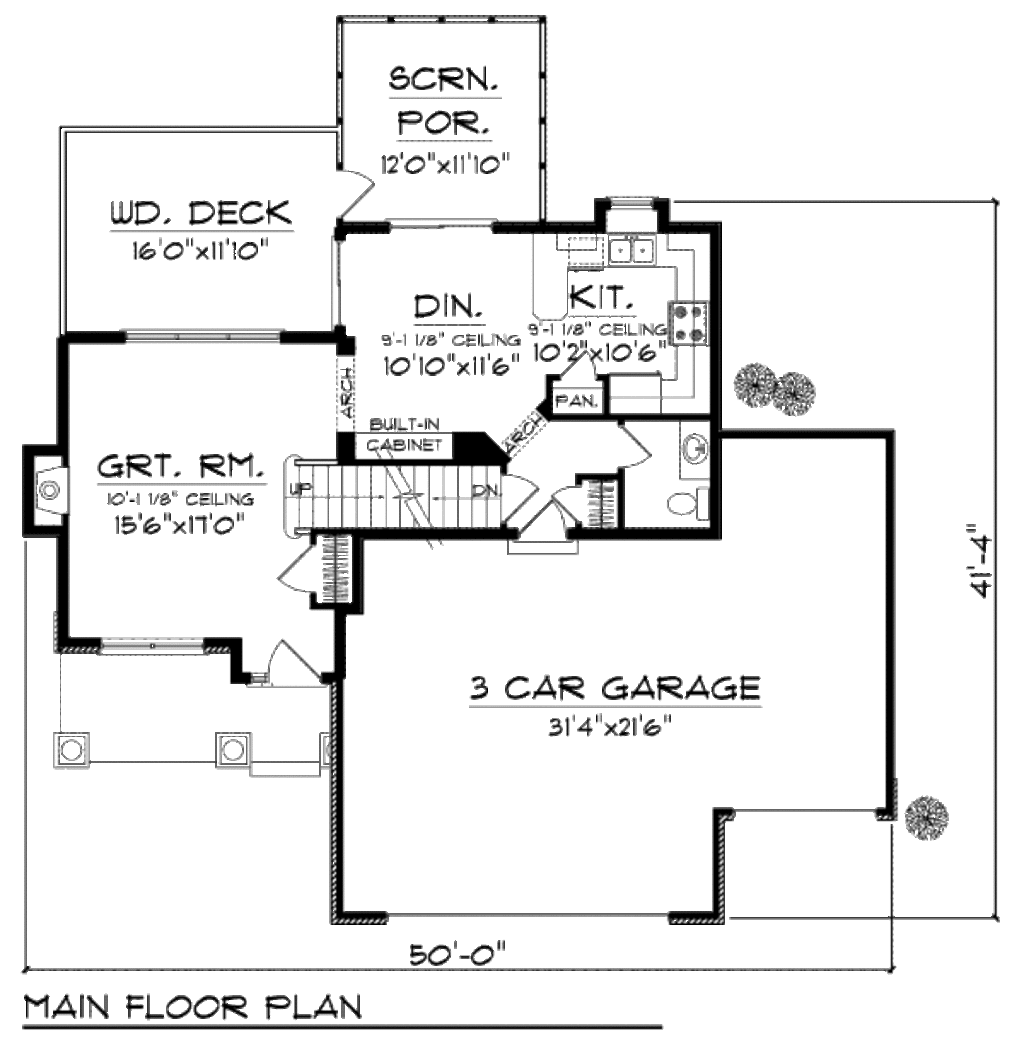door: (498, 505, 579, 554), (324, 160, 384, 223), (261, 641, 332, 694), (279, 534, 326, 601), (605, 415, 659, 470), (553, 473, 597, 528), (500, 470, 539, 525)
large_sink: (661, 473, 713, 525)
small_sink: (680, 418, 714, 478)
stairs: (276, 451, 506, 530)
twin_sink: (605, 230, 658, 270)
window: (105, 326, 287, 351), (95, 636, 213, 660)
